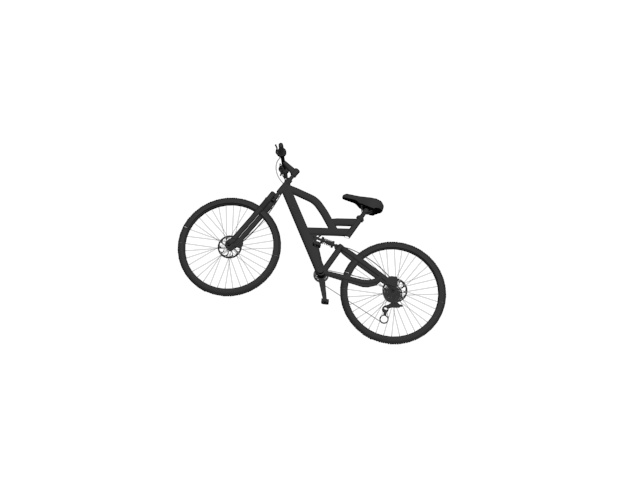bike: (177, 137, 448, 352)
